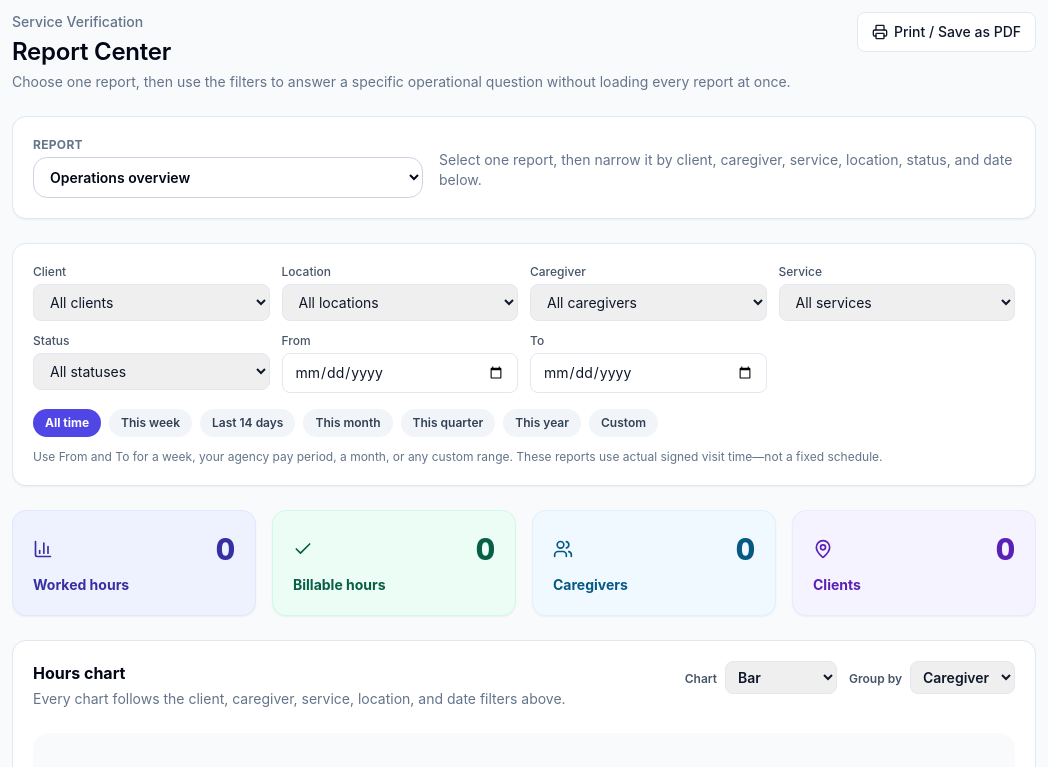
Test: ServiceVerificationReportsPage › hides Correct and History actions without visits.manage
The width and height of the screenshot is (1048, 767).
Select "Visit details" in the dropdown labelled "Report" at (228, 178), box x1=33 y1=157 x2=423 y2=198
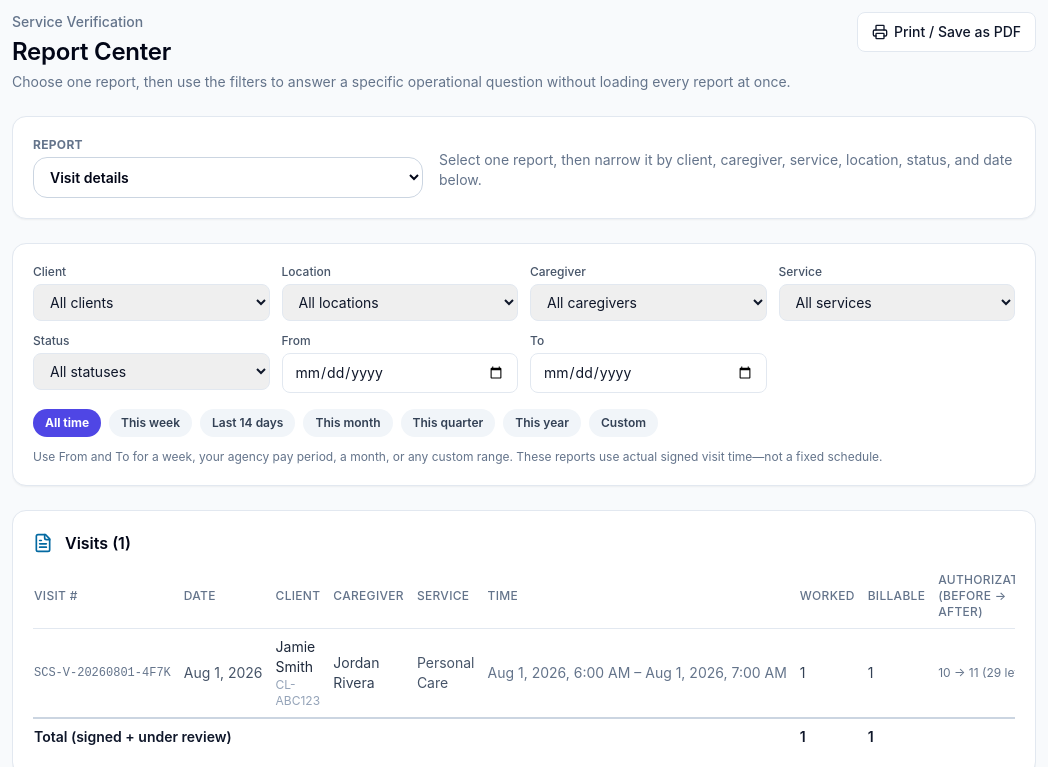
Now the text "SCS-V-20260801-4F7K" is shown, box x1=33 y1=628 x2=183 y2=718
